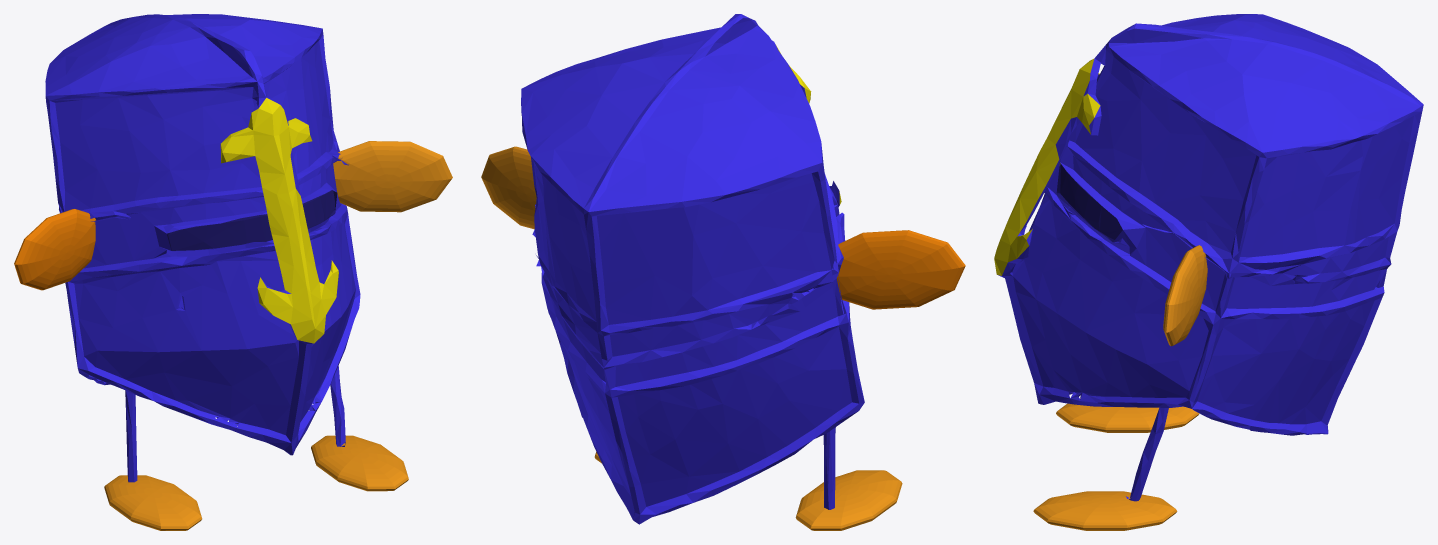
File: MrTreb.glb
3 views of the same model, side by side, from view 1: azimuth 30°, elevation 25°; view 2: azimuth 150°, elevation 25°; view 3: azimuth 270°, elevation 25° (orthographic). The views are drawn at different scales.
Visible parts, largest first — view 1: white_mesh, white_mesh.001, Sphere.002, Sphere.003, Sphere, Sphere.001, white_mesh.002; view 2: white_mesh, Sphere.003, Sphere, Sphere.002; view 3: white_mesh, white_mesh.001, Sphere.001, Sphere.002, Sphere, white_mesh.002.
Part boxes in pixels (x1,y1,x2,y2): white_mesh: (45, 14, 360, 482); white_mesh.001: (220, 98, 338, 343); Sphere.002: (333, 141, 452, 212); Sphere.003: (14, 209, 95, 290); Sphere: (104, 475, 202, 530); Sphere.001: (311, 435, 408, 491); white_mesh.002: (167, 190, 337, 250); white_mesh: (521, 14, 864, 524); Sphere.003: (836, 230, 965, 309); Sphere: (795, 470, 902, 530); Sphere.002: (481, 146, 536, 229); white_mesh: (998, 14, 1423, 501); white_mesh.001: (994, 59, 1100, 275); Sphere.001: (1033, 491, 1177, 530); Sphere.002: (1163, 245, 1207, 346); Sphere: (1056, 403, 1199, 432); white_mesh.002: (1056, 163, 1122, 241).
Bounding box in the file's own units: 1.96 × 1.86 × 1.62.
